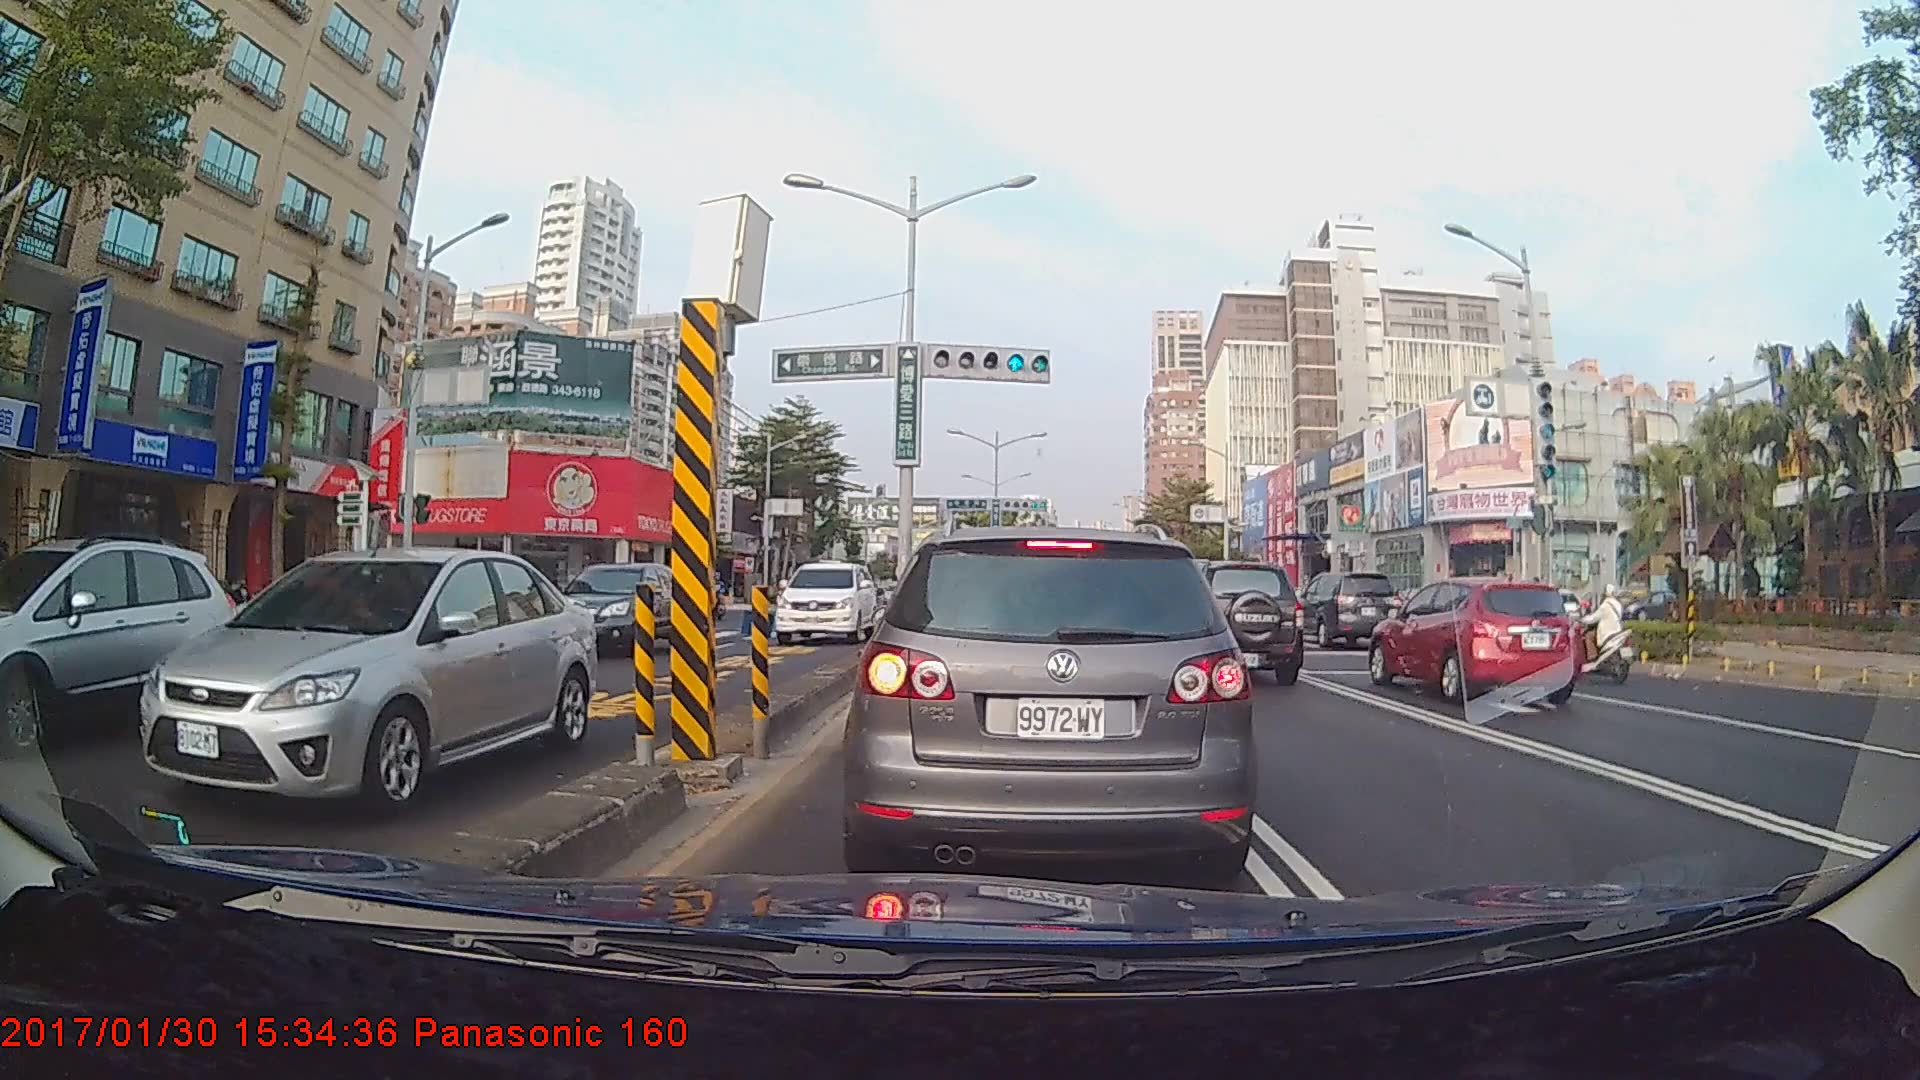vehicle: (855, 524, 1251, 880), (137, 545, 595, 814), (0, 535, 236, 760), (1369, 578, 1582, 704), (1159, 558, 1308, 686), (530, 560, 691, 661), (1280, 572, 1398, 650), (775, 560, 880, 645)
